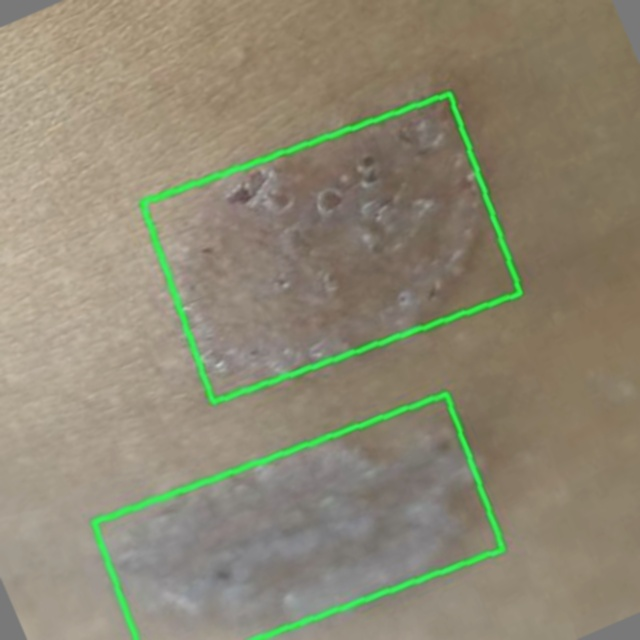Tinea Corporis: (143, 93, 521, 402), (94, 393, 504, 639)
